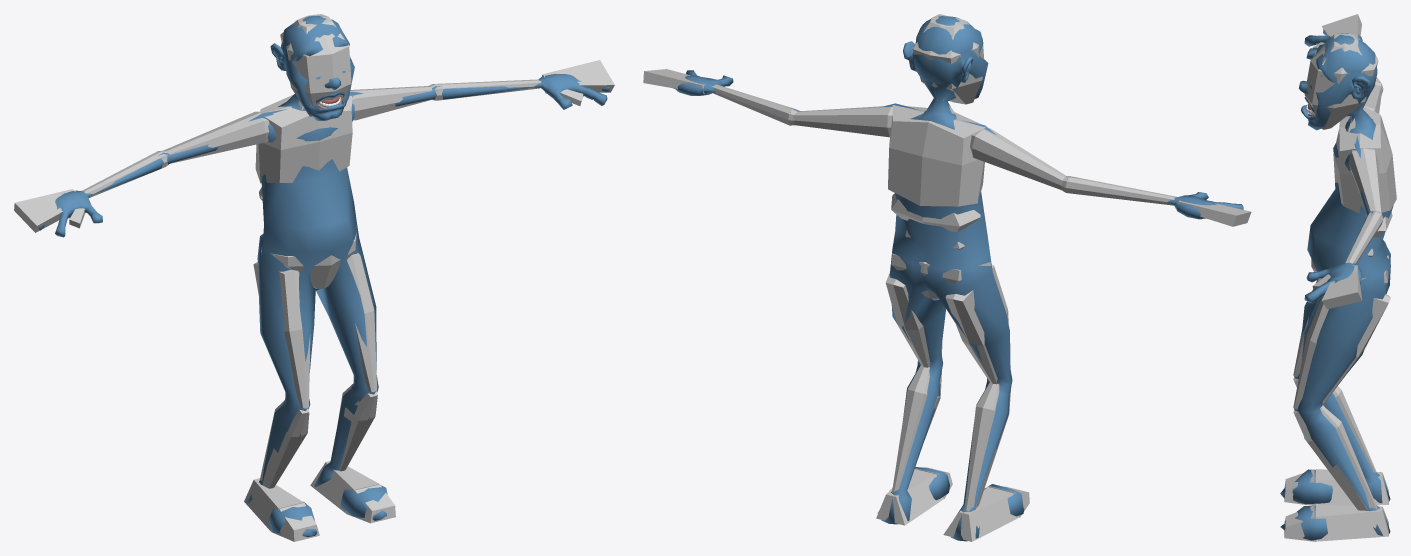
The model's file is anger.obj.
The picture shows the model from 3 angles, left to right: view 1: azimuth 30°, elevation 25°; view 2: azimuth 150°, elevation 25°; view 3: azimuth 270°, elevation 25°; orthographic projection. The views are drawn at different scales.
Parts seen in each view (by area): view 1: BodyMaquette_lowpoly_body, Ludwig_meLudwig; view 2: BodyMaquette_lowpoly_body, Ludwig_meLudwig; view 3: Ludwig_meLudwig, BodyMaquette_lowpoly_body.
Boxes of the visible parts, x1,y1,x2,y2 form: BodyMaquette_lowpoly_body: (14, 14, 614, 541); Ludwig_meLudwig: (39, 16, 609, 537); BodyMaquette_lowpoly_body: (643, 14, 1251, 541); Ludwig_meLudwig: (673, 16, 1243, 541); Ludwig_meLudwig: (1280, 29, 1393, 540); BodyMaquette_lowpoly_body: (1284, 14, 1396, 541).
Size of the model in its own units: 17.03 by 13.63 by 3.02.
